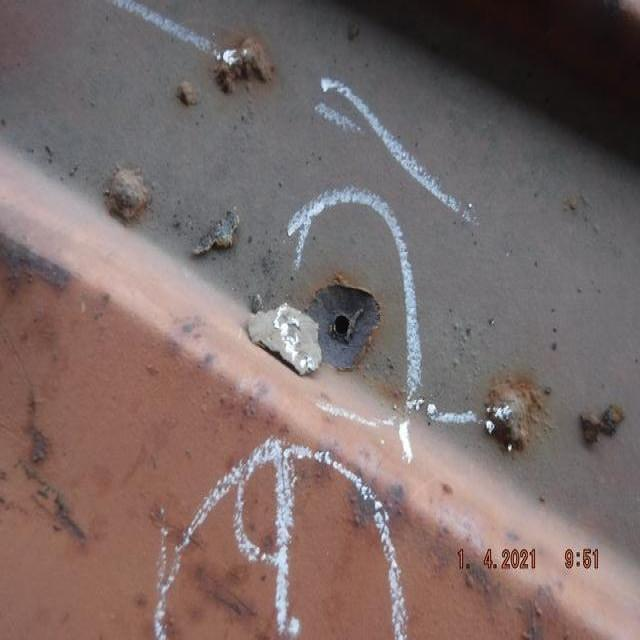hole: (330, 308, 357, 345)
